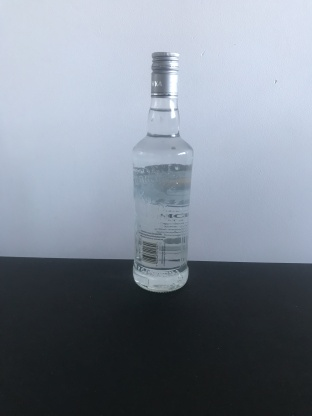nakretka: (149, 49, 181, 100)
